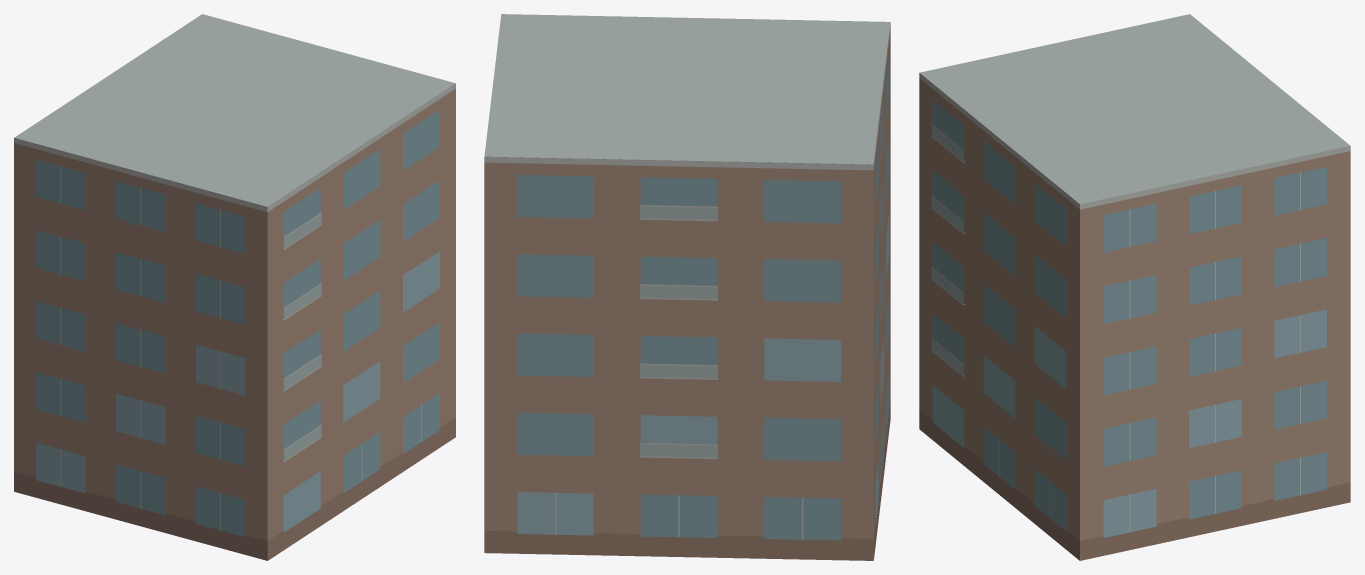
File: survey-upis-32840396.glb
3 renders of one model, left to right at view 1: azimuth 30°, elevation 25°; view 2: azimuth 150°, elevation 25°; view 3: azimuth 270°, elevation 25°, orthographic. The views are drawn at different scales.
Parts seen in each view (by area): view 1: survey-upis-32840396.tmp; view 2: survey-upis-32840396.tmp; view 3: survey-upis-32840396.tmp.
Boxes of the visible parts, x1=… form: survey-upis-32840396.tmp: x1=14, y1=14, x2=455, y2=560; survey-upis-32840396.tmp: x1=484, y1=14, x2=890, y2=560; survey-upis-32840396.tmp: x1=919, y1=14, x2=1350, y2=560.
Size of the model in its own units: 18.72 by 16.35 by 17.93.
